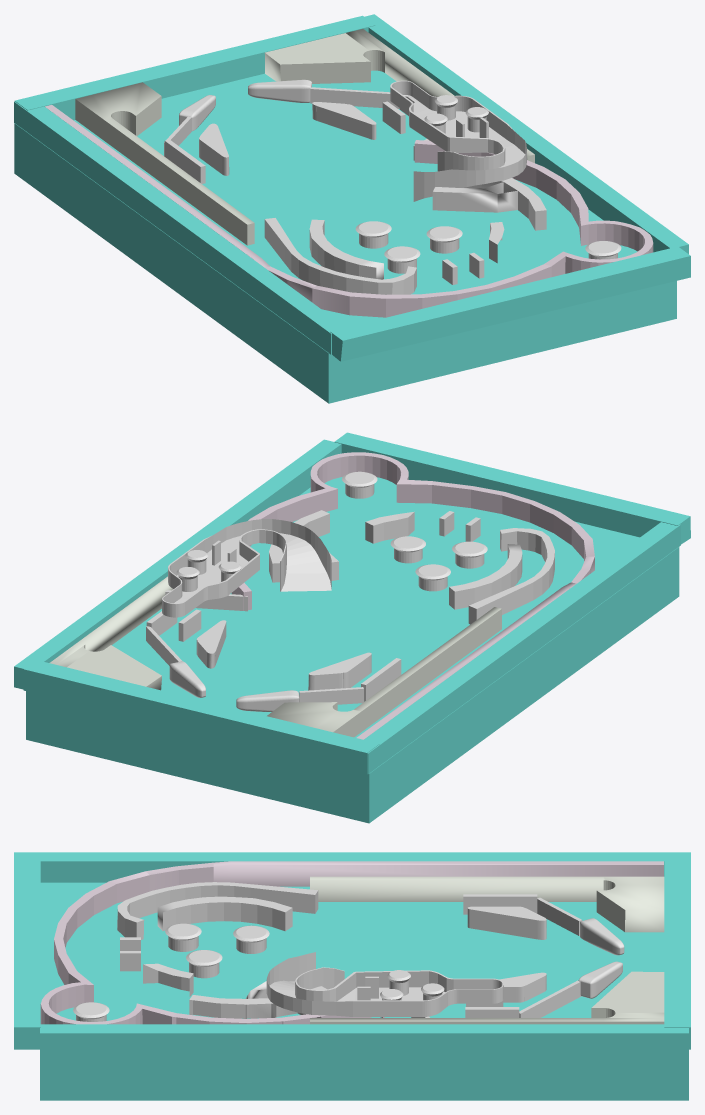
The model's file is bord 1.fbx.
3 renders of one model, top to bottom at view 1: azimuth 30°, elevation 25°; view 2: azimuth 150°, elevation 25°; view 3: azimuth 270°, elevation 25°, orthographic. The views are drawn at different scales.
Visible parts, largest first — view 1: Cube.001, Cube.005, Cube.003, Cube.008, 円柱.007, Cube.010, Cube.004, Cube.002, Cube.006, 円柱, 円柱.002, 円柱.003 (+9 smaller); view 2: Cube.001, Cube.004, Cube.003, Cube.008, Cube.005, 円柱.007, Cube.002, Cube.010, Cube.006, 円柱, 円柱.003, 立方体.002_立方体.003 (+12 smaller); view 3: Cube.001, Cube.002, Cube.008, Cube.010, 円柱.007, Cube.003, Cube.005, Cube.006, Cube.004, 円柱, 円柱.003, 円柱.002 (+15 smaller).
Boxes of the visible parts, <box> form: Cube.001: <box>14,70,676,403</box>; Cube.005: <box>330,246,690,361</box>; Cube.003: <box>14,101,345,354</box>; Cube.008: <box>45,105,653,317</box>; 円柱.007: <box>390,80,526,201</box>; Cube.010: <box>75,82,254,245</box>; Cube.004: <box>15,15,375,120</box>; Cube.002: <box>364,14,688,253</box>; Cube.006: <box>264,29,534,162</box>; 円柱: <box>264,218,416,294</box>; 円柱.002: <box>432,178,546,230</box>; 円柱.003: <box>309,219,383,279</box>; Cube.001: <box>26,477,679,823</box>; Cube.004: <box>23,660,379,774</box>; Cube.003: <box>364,522,680,774</box>; Cube.008: <box>231,452,594,739</box>; Cube.005: <box>334,432,690,544</box>; 円柱.007: <box>162,519,331,617</box>; Cube.002: <box>14,439,341,689</box>; Cube.010: <box>267,607,501,737</box>; Cube.006: <box>49,576,173,690</box>; 円柱: <box>468,528,554,624</box>; 円柱.003: <box>449,544,522,609</box>; 立方体.002_立方体.003: <box>308,652,371,690</box>; Cube.001: <box>40,882,688,1100</box>; Cube.002: <box>40,1024,688,1054</box>; Cube.008: <box>40,861,663,1024</box>; Cube.010: <box>310,876,664,932</box>; 円柱.007: <box>266,952,503,1016</box>; Cube.003: <box>40,852,664,882</box>; Cube.005: <box>14,852,40,1049</box>; Cube.006: <box>310,971,664,1024</box>; Cube.004: <box>664,852,690,1049</box>; 円柱: <box>117,882,318,939</box>; 円柱.003: <box>157,896,292,931</box>; 円柱.002: <box>189,981,326,1018</box>.
Size of the model in its own units: 1497 by 368 by 2361.
